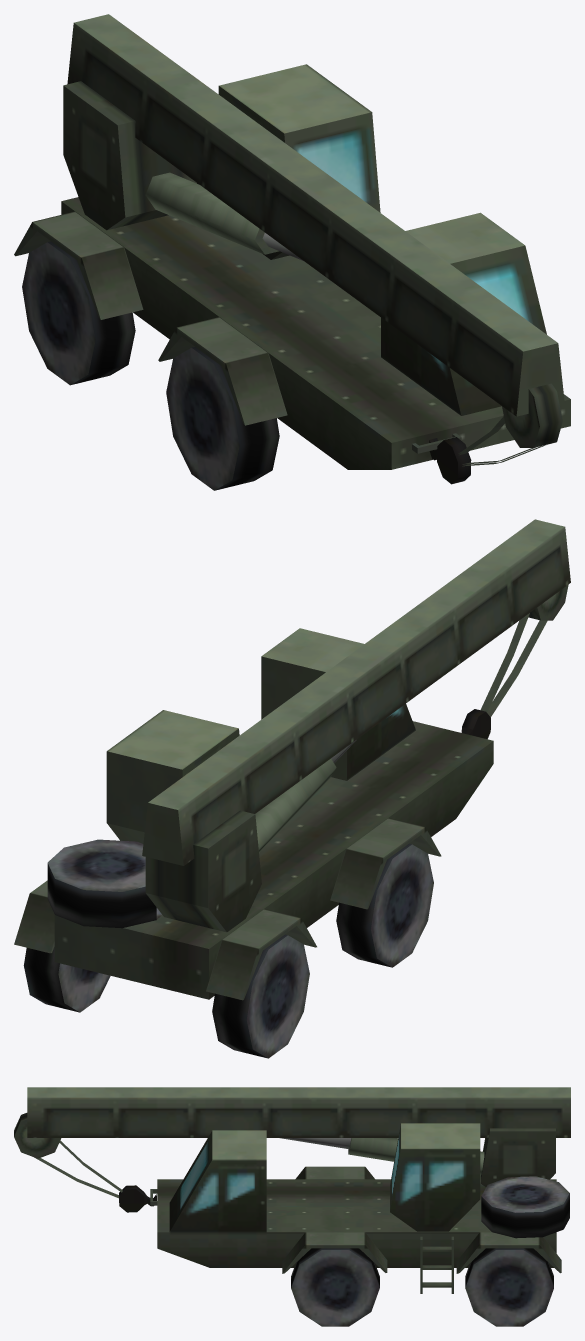
Rendered from Crane2.DAE.
The picture shows the model from 3 angles, top to bottom: view 1: azimuth 30°, elevation 25°; view 2: azimuth 150°, elevation 25°; view 3: azimuth 270°, elevation 25°; orthographic projection. The views are drawn at different scales.
Visible parts, largest first — view 1: _1149_Crane; view 2: _1149_Crane; view 3: _1149_Crane.
Boxes of the visible parts, x1,y1,x2,y2 form: _1149_Crane: [14, 14, 570, 490]; _1149_Crane: [14, 519, 570, 1058]; _1149_Crane: [14, 1087, 570, 1326].
Bounding box in the file's own units: 114 × 124 × 342.
1 material, 1 textured.
